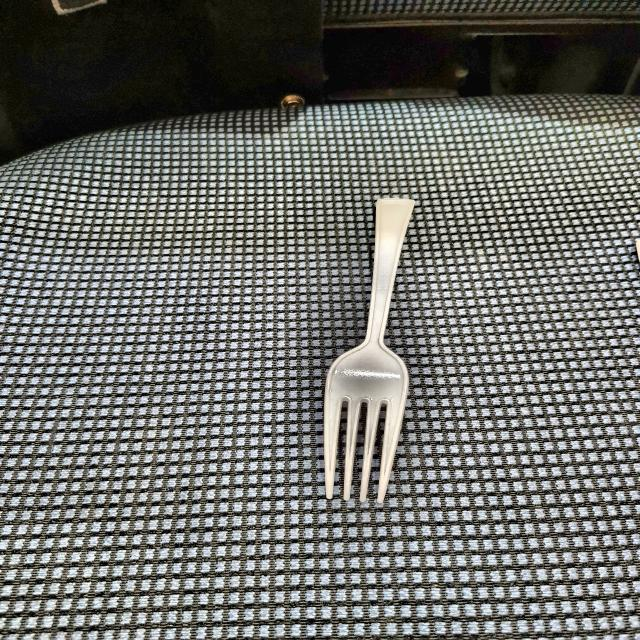plastic utensil: (312, 197, 428, 501)
